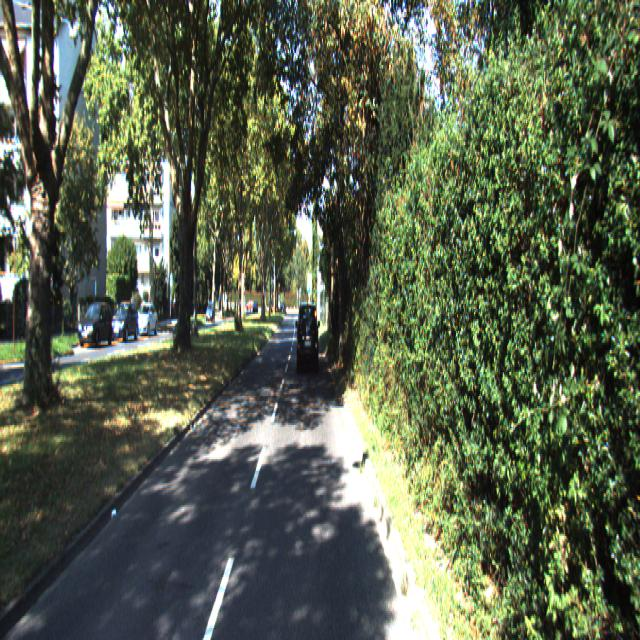Car: (77, 306, 114, 352), (297, 303, 319, 375), (110, 305, 139, 347), (134, 306, 159, 342)
